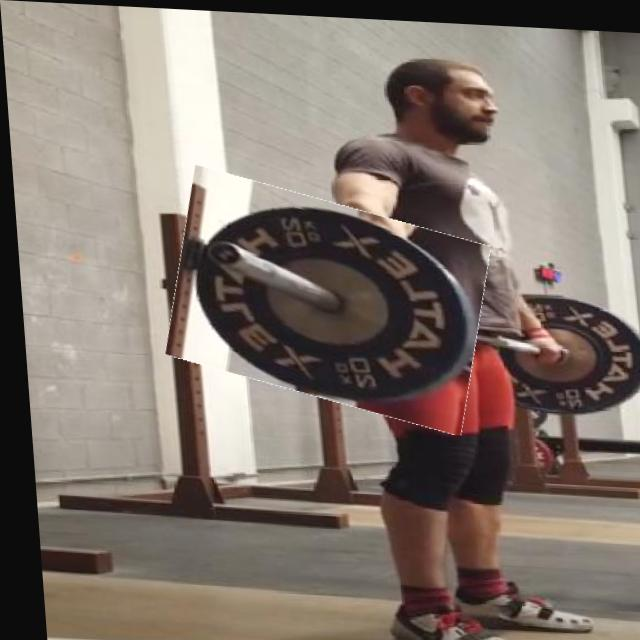barbell: (160, 178, 489, 418)
